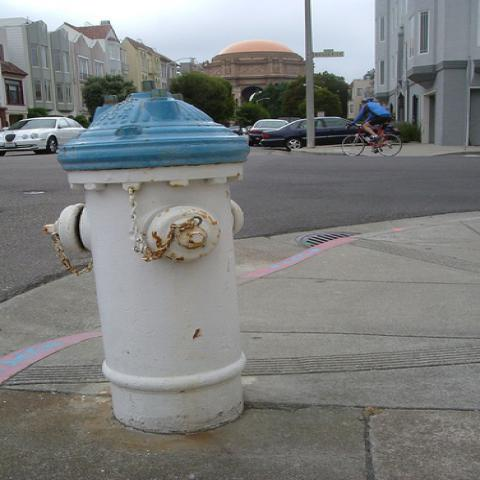car: (0, 115, 88, 158), (260, 116, 361, 150), (247, 119, 287, 147), (228, 126, 243, 136)
